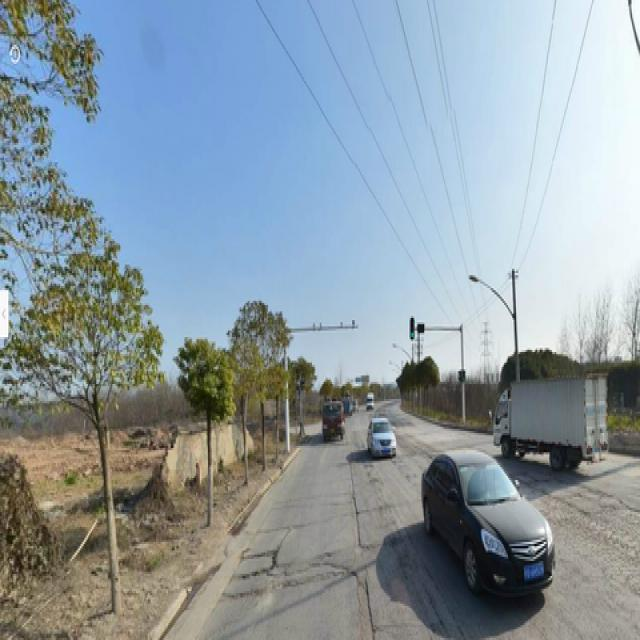cinn: (43, 222, 144, 597), (178, 326, 230, 523)
